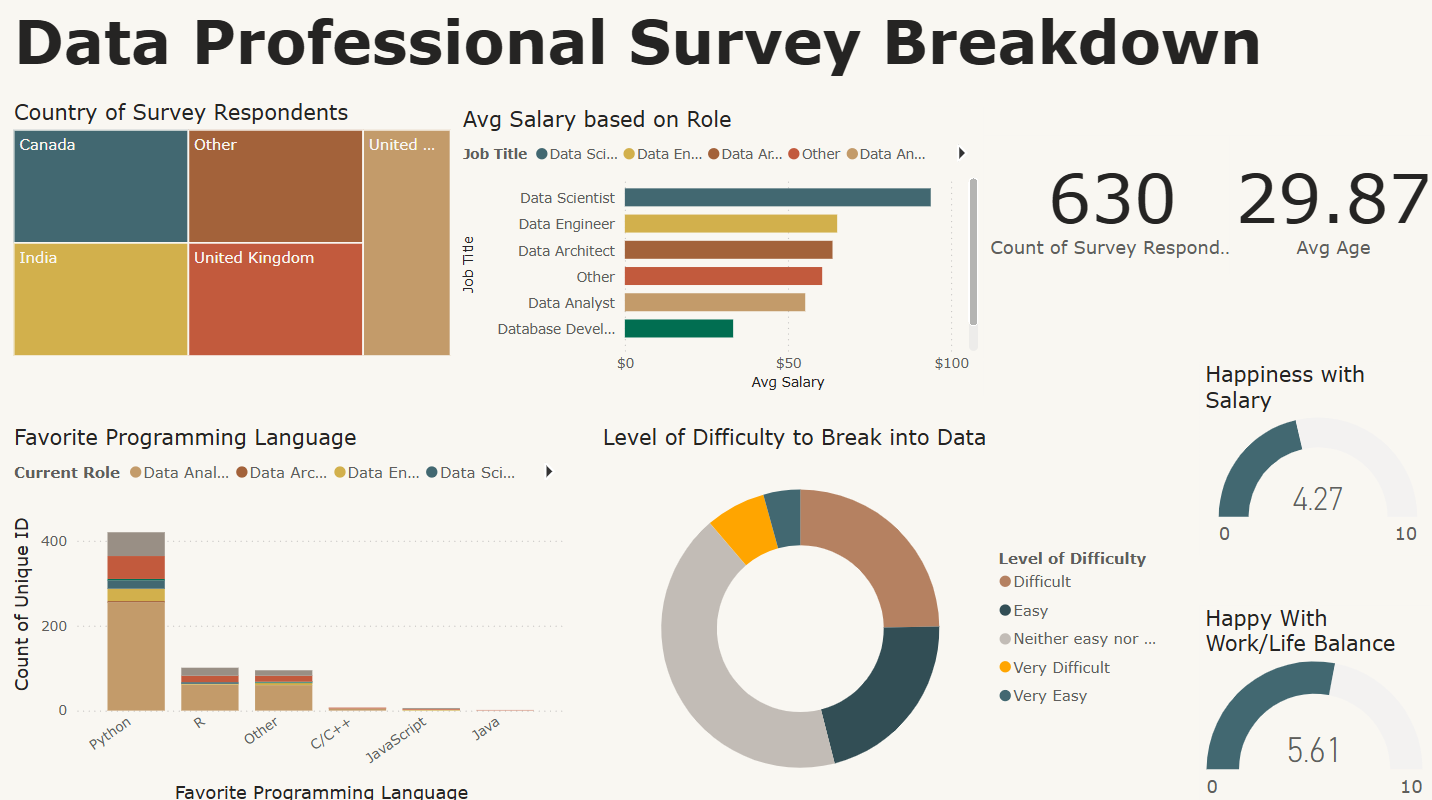

The page's visual inventory and layout, read from the dashboard file:
{"tool":"powerbi","page":{"name":"Dasboard","canvas":[1280,720],"ordinal":0},"visuals":[{"type":"textbox","box":[10,0,1270,96.7],"z":0},{"type":"card","fields":{"Values":["Count(Data Professional Survey.Unique ID)"]},"box":[876.7,121.7,230,123.3],"z":1000},{"type":"card","fields":{"Values":["Avg(Data Professional Survey.Q10 - Current Age)"]},"box":[1095,121.7,185,123.3],"z":2000},{"type":"barChart","title":"Avg Salary based on Role","fields":{"Category":["Data Professional Survey.Q1 - Which Title Best Fits your Current Role?.1"],"Y":["Avg(Data Professional Survey.AVG SALARY)"],"Series":["Data Professional Survey.Q1 - Which Title Best Fits your Current Role?.1"]},"box":[408.3,96.7,468.3,256.7],"z":3000},{"type":"columnChart","title":"Favorite Programming Language","fields":{"Category":["Data Professional Survey.Q5 - Favorite Programming Language.1"],"Y":["Count(Data Professional Survey.Unique ID)"],"Series":["Data Professional Survey.Q1 - Which Title Best Fits your Current Role?.1"]},"box":[10,378.3,500,341.7],"z":4000},{"type":"treemap","title":"Country of Survey Respondents","fields":{"Group":["Data Professional Survey.Q11 - Which Country do you live in?.1"],"Values":["Count(Data Professional Survey.Q11 - Which Country do you live in?.1)"]},"box":[10,90,398.3,233.3],"z":5000},{"type":"gauge","title":"Happiness with Salary","fields":{"MaxValue":["Max(Data Professional Survey.Q6 - How Happy are you in your Current Position with the following? (Salary))"],"MinValue":["Min(Data Professional Survey.Q6 - How Happy are you in your Current Position with the following? (Salary))"],"Y":["Avg(Data Professional Survey.Q6 - How Happy are you in your Current Position with the following? (Salary))"]},"box":[1068.9,323.3,211.1,172.2],"z":6000},{"type":"gauge","title":"Happy With Work/Life Balance","fields":{"Y":["Avg(Data Professional Survey.Q6 - How Happy are you in your Current Position with the following? (Learning New Things))"],"MinValue":["Min(Data Professional Survey.Q6 - How Happy are you in your Current Position with the following? (Learning New Things))1"],"MaxValue":["Max(Data Professional Survey.Q6 - How Happy are you in your Current Position with the following? (Learning New Things))2"]},"box":[1068.3,540,205,180],"z":7000},{"type":"donutChart","title":"Level of Difficulty to Break into Data","fields":{"Category":["Data Professional Survey.Q7 - How difficult was it for you to break into Data?"],"Y":["CountNonNull(Data Professional Survey.Q7 - How difficult was it for you to break into Data?)"]},"box":[532.9,378.6,512.9,341.4],"z":8000}]}

Visuals, with their boxes in screenshot pixels (x1, y1, x2, y2), scaled from the page's 1280x720 canvas onto the 1432x800 screenshot:
textbox: region(11, 0, 1431, 107)
card - Count(Data Professional Survey.Unique ID): region(981, 135, 1238, 272)
card - Avg(Data Professional Survey.Q10 - Current Age): region(1225, 135, 1431, 272)
"Avg Salary based on Role" barChart: region(457, 107, 981, 393)
"Favorite Programming Language" columnChart: region(11, 420, 571, 799)
"Country of Survey Respondents" treemap: region(11, 100, 457, 359)
"Happiness with Salary" gauge: region(1196, 359, 1431, 551)
"Happy With Work/Life Balance" gauge: region(1195, 600, 1425, 799)
"Level of Difficulty to Break into Data" donutChart: region(596, 421, 1170, 799)
